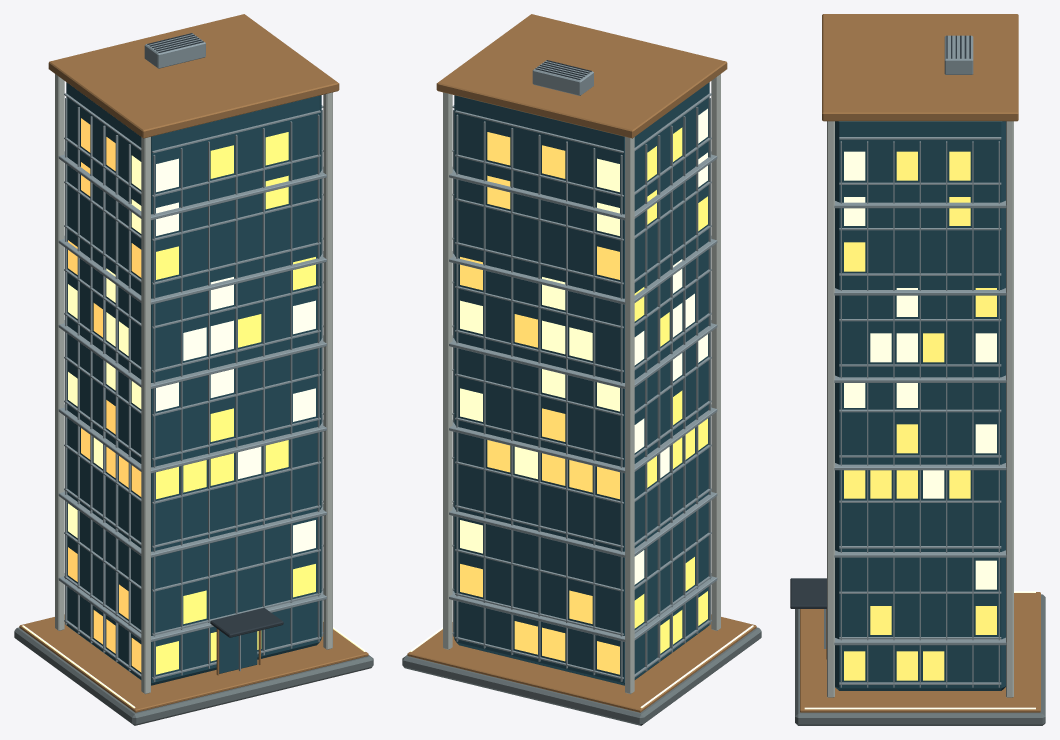
Rendered from data-tower-a.lod0.glb.
The picture shows the model from 3 angles, left to right: view 1: azimuth 30°, elevation 25°; view 2: azimuth 150°, elevation 25°; view 3: azimuth 270°, elevation 25°; orthographic projection. The views are drawn at different scales.
Visible parts, largest first — view 1: structure; view 2: structure; view 3: structure.
Boxes of the visible parts, x1,y1,x2,y2 form: structure: (14,14,373,725); structure: (402,14,761,725); structure: (790,14,1045,725).
Size of the model in its own units: 15 by 35.43 by 13.25.
